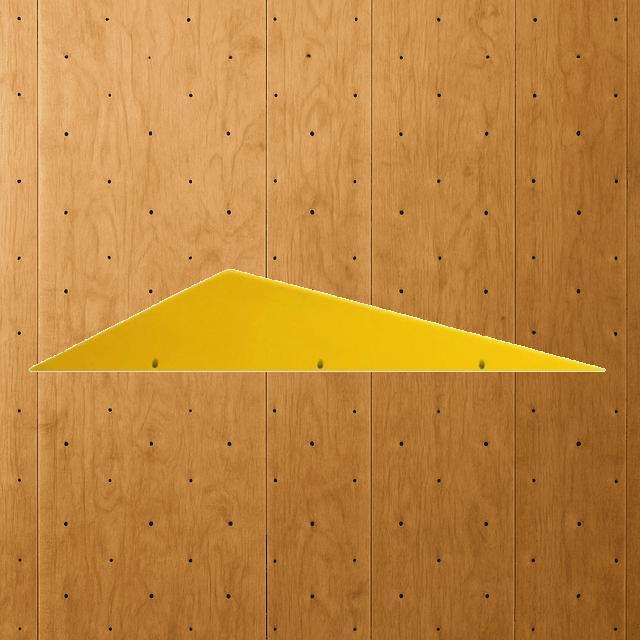Volume: (28, 267, 606, 373)
